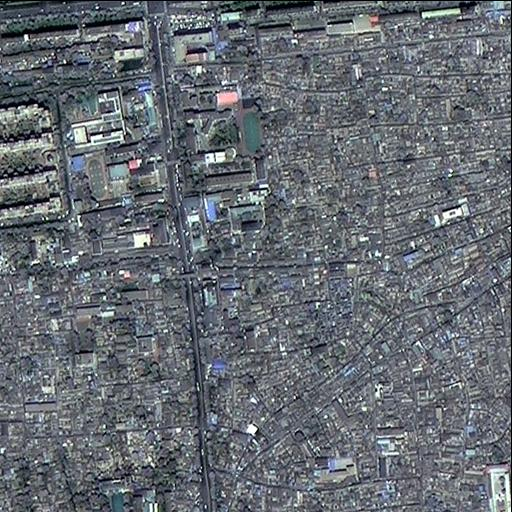school: (68, 138, 170, 208), (170, 104, 268, 167)
